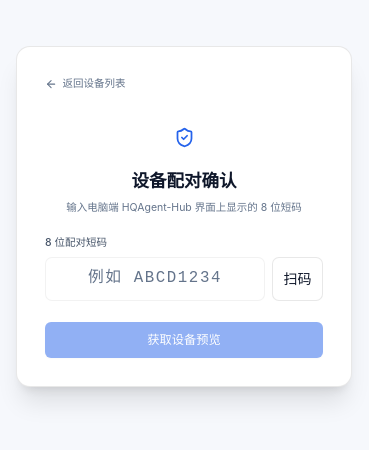
Test case: RemotePairingPage › handles REMOTE_PAIRING_INVALID error correctly
Type "INVALID0" into the field labelled "8 位配对短码" at (155, 278), box [45,256,265,300]
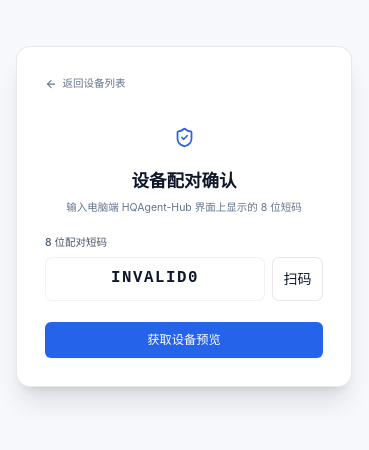
Click the button with test id "preview-btn" at (184, 340), box [45,322,323,358]
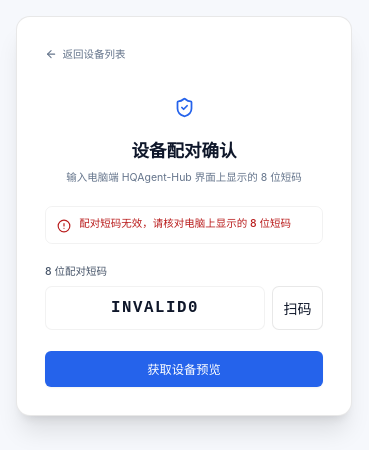
expect the message "配对短码无效，请核对电脑上显示的 8 位短码" is shown: met, box [45,206,323,244]
